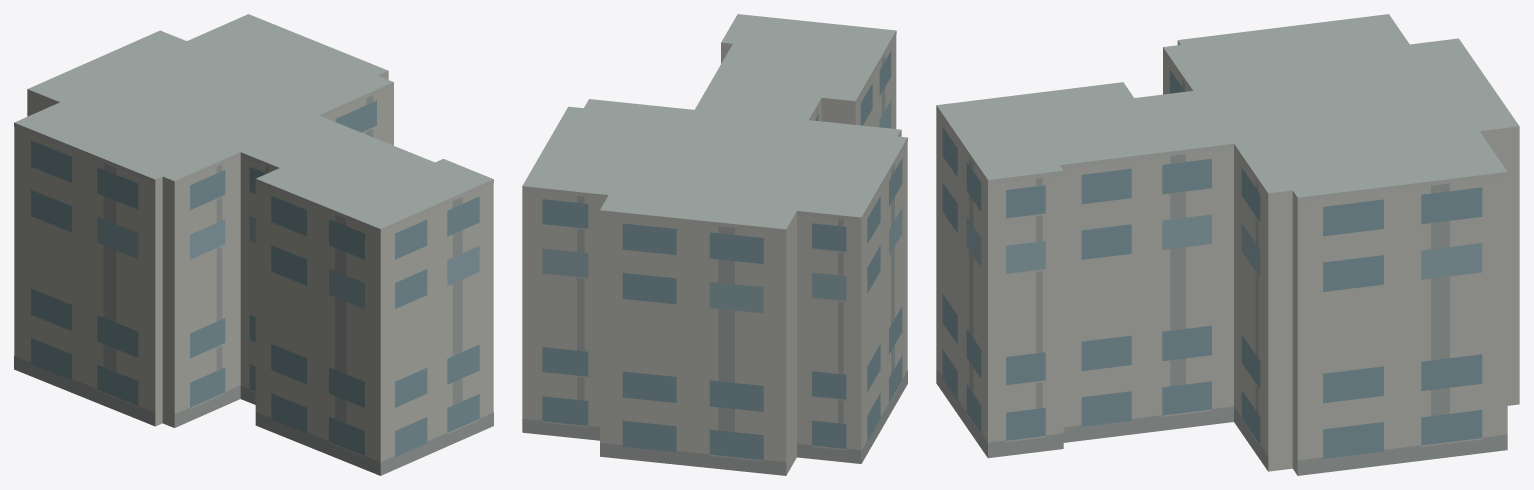
File: residential-1c0620a9-a00d-4fe0-9ef2-ab91b198c62d.glb
3 views of the same model, side by side, from view 1: azimuth 30°, elevation 25°; view 2: azimuth 150°, elevation 25°; view 3: azimuth 270°, elevation 25° (orthographic). The views are drawn at different scales.
Visible parts, largest first — view 1: residential-1c0620a9-a00d-4fe0-9ef2-ab91b198c62d.tmp; view 2: residential-1c0620a9-a00d-4fe0-9ef2-ab91b198c62d.tmp; view 3: residential-1c0620a9-a00d-4fe0-9ef2-ab91b198c62d.tmp.
Part boxes in pixels (bbox=[...]): residential-1c0620a9-a00d-4fe0-9ef2-ab91b198c62d.tmp: bbox=[14, 14, 493, 475]; residential-1c0620a9-a00d-4fe0-9ef2-ab91b198c62d.tmp: bbox=[522, 14, 907, 475]; residential-1c0620a9-a00d-4fe0-9ef2-ab91b198c62d.tmp: bbox=[936, 14, 1519, 475].
Bounding box in the file's own units: 21.61 × 15.25 × 28.98.
